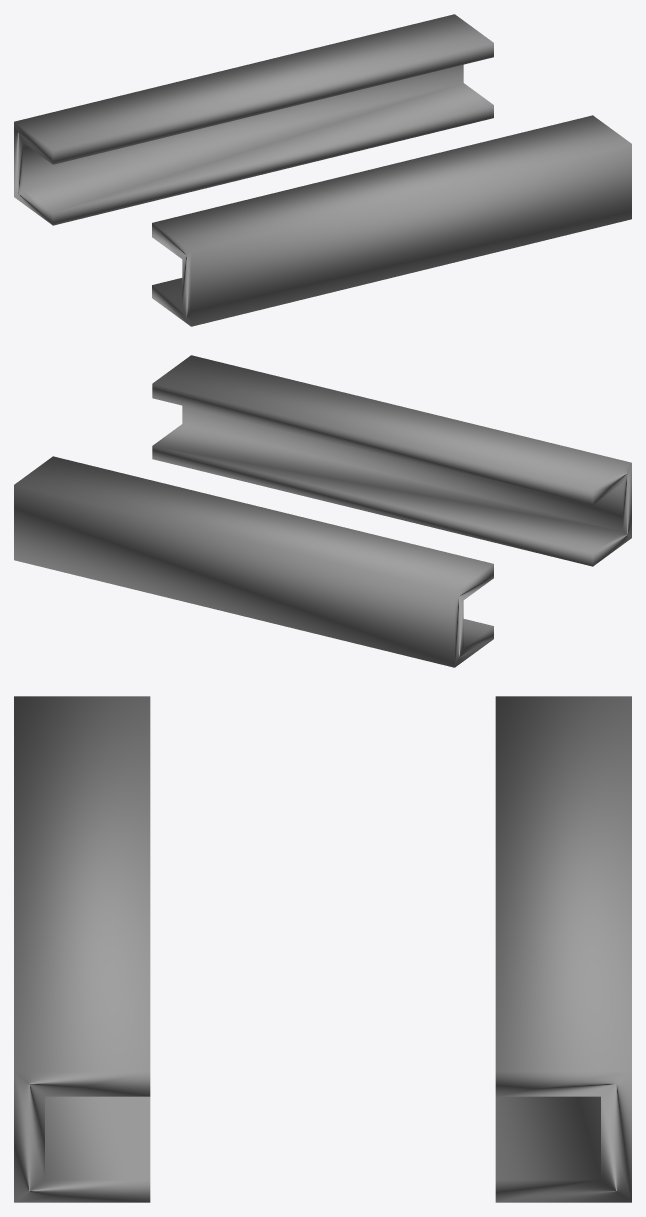
File: shelvestrack.gltf
3 renders of one model, top to bottom at view 1: azimuth 30°, elevation 25°; view 2: azimuth 150°, elevation 25°; view 3: azimuth 270°, elevation 25°, orthographic. The views are drawn at different scales.
Visible parts, largest first — view 1: Box1870, Box1869; view 2: Box1870, Box1869; view 3: Box1870, Box1869.
Part boxes in pixels (left/top/right/bottom): Box1870: left=14, top=14, right=493, bottom=225; Box1869: left=152, top=115, right=631, bottom=326; Box1870: left=14, top=456, right=493, bottom=667; Box1869: left=152, top=355, right=631, bottom=566; Box1870: left=495, top=696, right=631, bottom=1202; Box1869: left=14, top=696, right=150, bottom=1202.
Size of the model in its own units: 918 by 150 by 639.
1 material, 1 textured.
